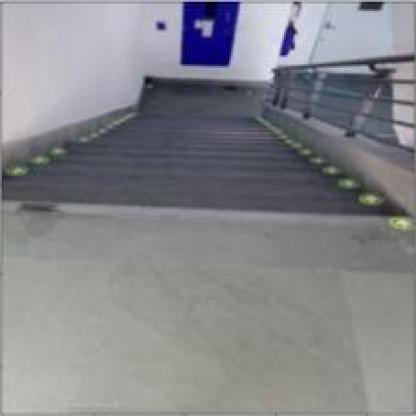stair_down: (57, 138, 317, 258)
